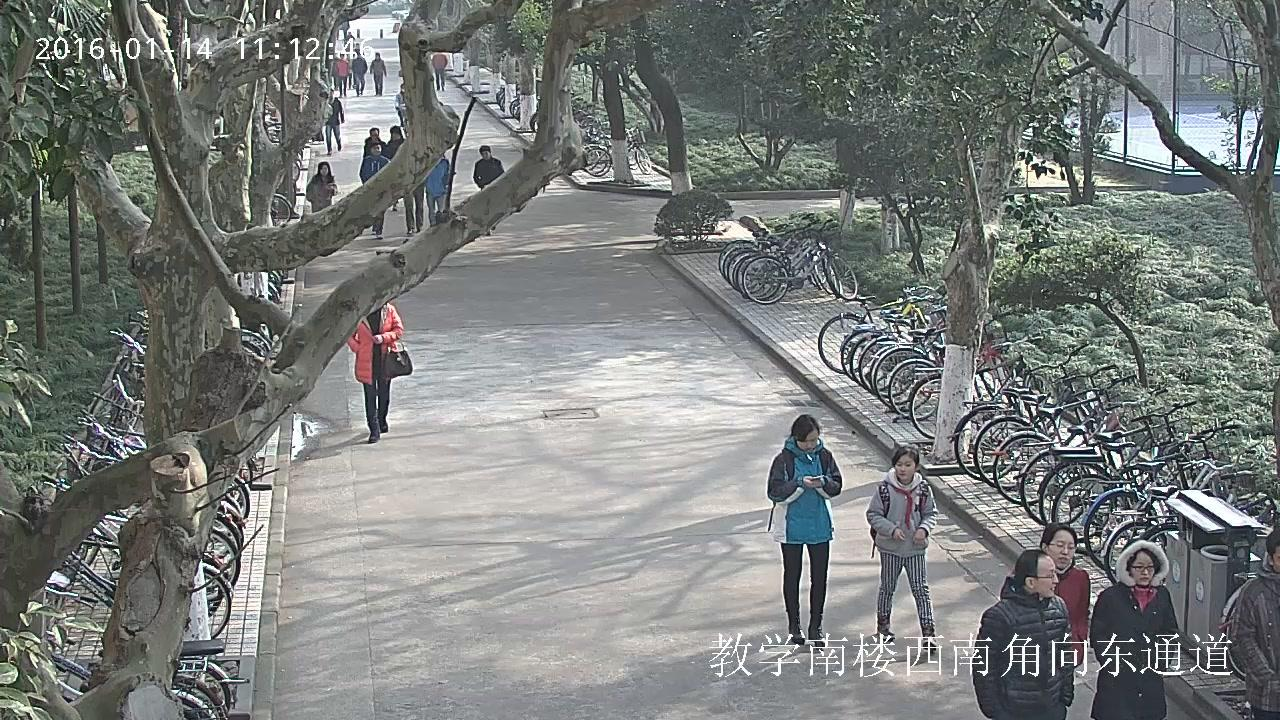person: (971, 549, 1076, 720), (767, 414, 842, 651), (1087, 539, 1180, 720), (865, 445, 939, 653), (345, 302, 412, 444), (1233, 527, 1280, 719), (1034, 523, 1090, 668), (359, 141, 390, 240), (423, 158, 451, 226), (305, 161, 337, 212), (472, 145, 505, 189), (401, 184, 425, 243), (323, 97, 344, 157), (362, 127, 385, 158), (370, 52, 386, 96), (385, 126, 406, 158), (352, 52, 367, 96), (431, 51, 447, 92), (337, 53, 349, 97)
